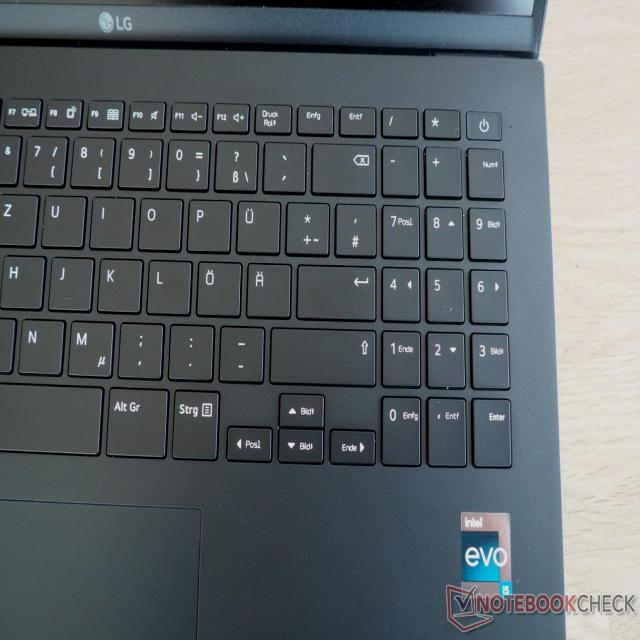0: (164, 135, 210, 189)
7: (22, 133, 67, 185)
8: (68, 133, 114, 187)
9: (116, 134, 162, 188)
accent: (261, 137, 305, 191)
ae: (243, 258, 290, 316)
altgr-right: (104, 384, 168, 459)
comma: (116, 318, 164, 376)
del: (310, 138, 376, 193)
enter: (294, 261, 376, 320)
h: (0, 251, 44, 308)
hash: (332, 199, 376, 256)
i: (87, 192, 133, 247)
j: (46, 252, 92, 310)
k: (95, 254, 142, 312)
keyboard: (0, 64, 524, 490)
l: (145, 255, 191, 313)
m: (65, 316, 114, 376)
minus: (216, 322, 264, 381)
n: (16, 315, 64, 374)
o: (135, 194, 182, 250)
oe: (194, 257, 241, 315)
p: (185, 195, 231, 251)
plus: (284, 197, 330, 253)
point: (167, 320, 215, 378)
shift-right: (267, 323, 375, 385)
space: (0, 380, 103, 456)
ss: (212, 136, 258, 191)
strg-right: (170, 386, 220, 460)
u: (39, 191, 85, 247)
ue: (234, 196, 280, 253)
z: (0, 189, 38, 245)
